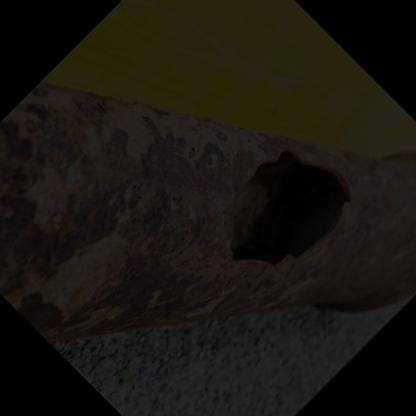burst: (219, 158, 351, 282)
